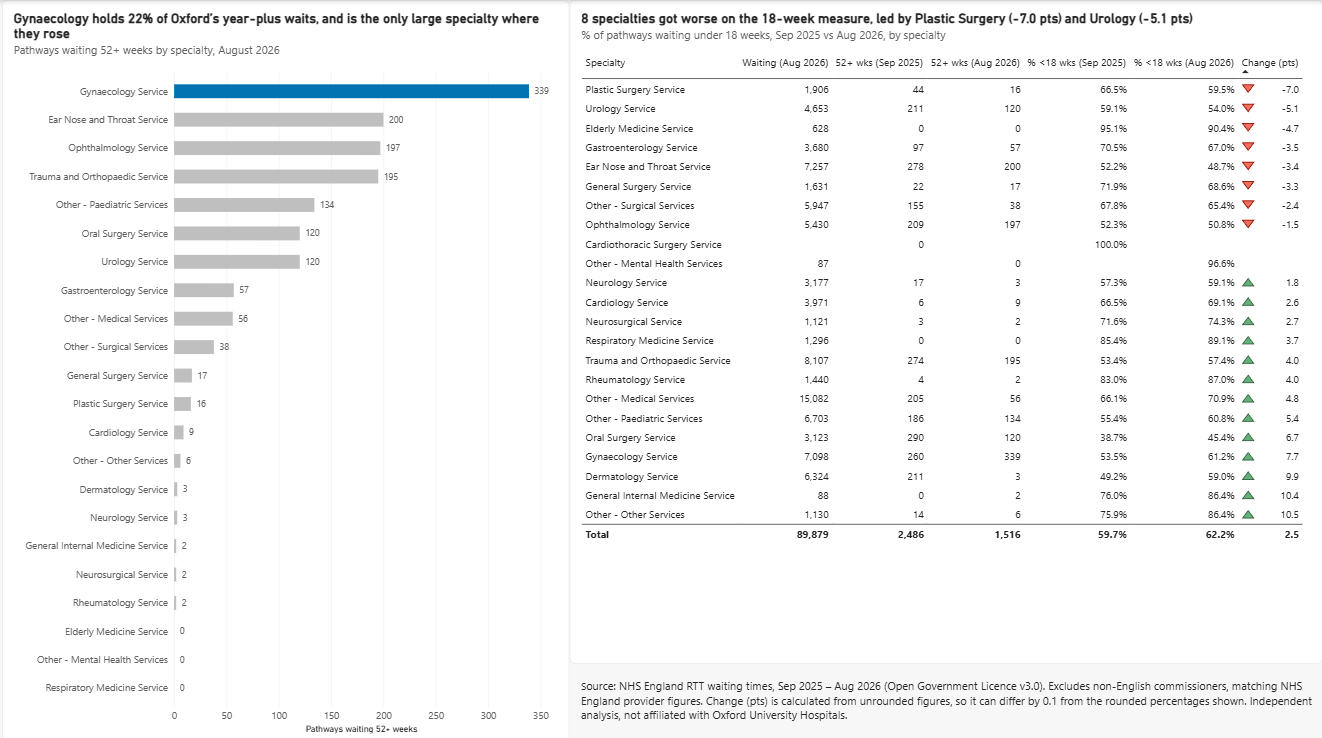

The dashboard page shown, as its layout file describes it:
{"tool":"powerbi","page":{"name":"Specialties","canvas":[1920,1080],"ordinal":1},"visuals":[{"type":"clusteredBarChart","title":"Gynaecology holds 22% of Oxford’s year-plus waits, and is the only large specialty where they rose ","fields":{"Category":["oxford_specialty_month.specialty_name"],"Y":["oxford_specialty_month.Specialty Over 52"]},"box":[9.2,0,820.8,1079],"z":0},{"type":"tableEx","title":"8 specialties got worse on the 18-week measure, led by Plastic Surgery (−7.0 pts) and Urology (−5.1 pts)","fields":{"Values":["oxford_specialty_month.specialty_name","oxford_specialty_month.Specialty Waiting","oxford_specialty_month.Specialty Over 52 (Sep 2025)","oxford_specialty_month.Specialty Over 52","oxford_specialty_month.Specialty % Within 18 (Sep 2025)","oxford_specialty_month.Specialty % Within 18","oxford_specialty_month.Change in % Within 18 (pts)"]},"box":[830.6,0,1089.4,960.9],"z":1},{"type":"textbox","box":[846.9,980.8,1060.5,97.7],"z":2}]}

Visuals, with their boxes in screenshot pixels (x1, y1, x2, y2), scaled from the page's 1920x1080 canvas onto the 1322x738 screenshot:
"Gynaecology holds 22% of Oxford’s year-plus waits, and is the only large specialty where they rose " clusteredBarChart: (left=6, top=0, right=571, bottom=737)
"8 specialties got worse on the 18-week measure, led by Plastic Surgery (−7.0 pts) and Urology (−5.1 pts)" tableEx: (left=572, top=0, right=1321, bottom=657)
textbox: (left=583, top=670, right=1313, bottom=737)
